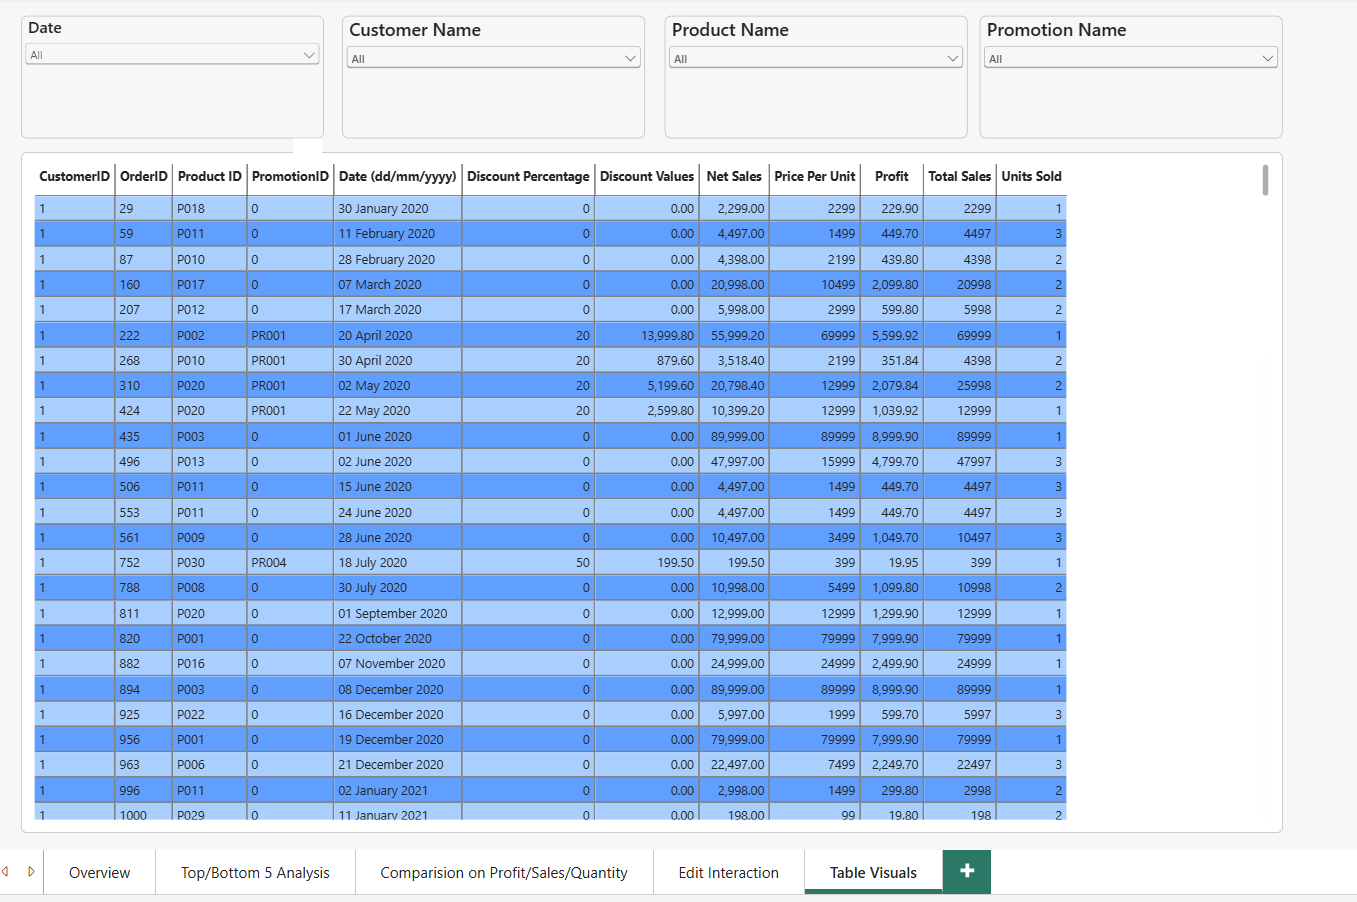

The page's visual inventory and layout, read from the dashboard file:
{"tool":"powerbi","page":{"name":"Table Visuals","canvas":[1920,1080],"ordinal":4},"visuals":[{"type":"tableEx","fields":{"Values":["Fact Table.CustomerID","Fact Table.OrderID","Fact Table.Product ID","Fact Table.PromotionID","Fact Table.Date (dd/mm/yyyy)","Fact Table.Discount Percentage","Fact Table.Discount Values","Fact Table.Net Sales ","Fact Table.Price Per Unit","Fact Table.Profit","Fact Table.Total Sales","Fact Table.Units Sold"]},"box":[31.7,196.7,1596.7,861.7],"z":0},{"type":"slicer","fields":{"Values":["Fact Table.Date (dd/mm/yyyy)"]},"box":[31.7,23.3,383.3,155],"z":1000},{"type":"slicer","fields":{"Values":["Dim Customers.Customer Name"]},"box":[438.3,23.3,383.3,155],"z":2000},{"type":"slicer","fields":{"Values":["Dim Product.Product Name"]},"box":[846.7,23.3,383.3,155],"z":3000},{"type":"slicer","fields":{"Values":["Dim Promotion.Promotion Name"]},"box":[1245,23.3,383.3,155],"z":4000}]}

Visuals, with their boxes on the page's 1920x1080 design canvas (x1, y1, x2, y2). These are canvas units, not pixel positions in the 1357x902 screenshot, which may show the page scaled, cropped or inside an application window:
tableEx - Fact Table.CustomerID x Fact Table.OrderID: [32,197,1628,1058]
slicer - Fact Table.Date (dd/mm/yyyy): [32,23,415,178]
slicer - Dim Customers.Customer Name: [438,23,822,178]
slicer - Dim Product.Product Name: [847,23,1230,178]
slicer - Dim Promotion.Promotion Name: [1245,23,1628,178]
